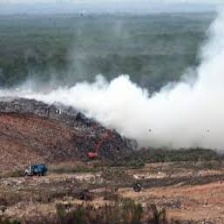smoke: (50, 62, 224, 142)
